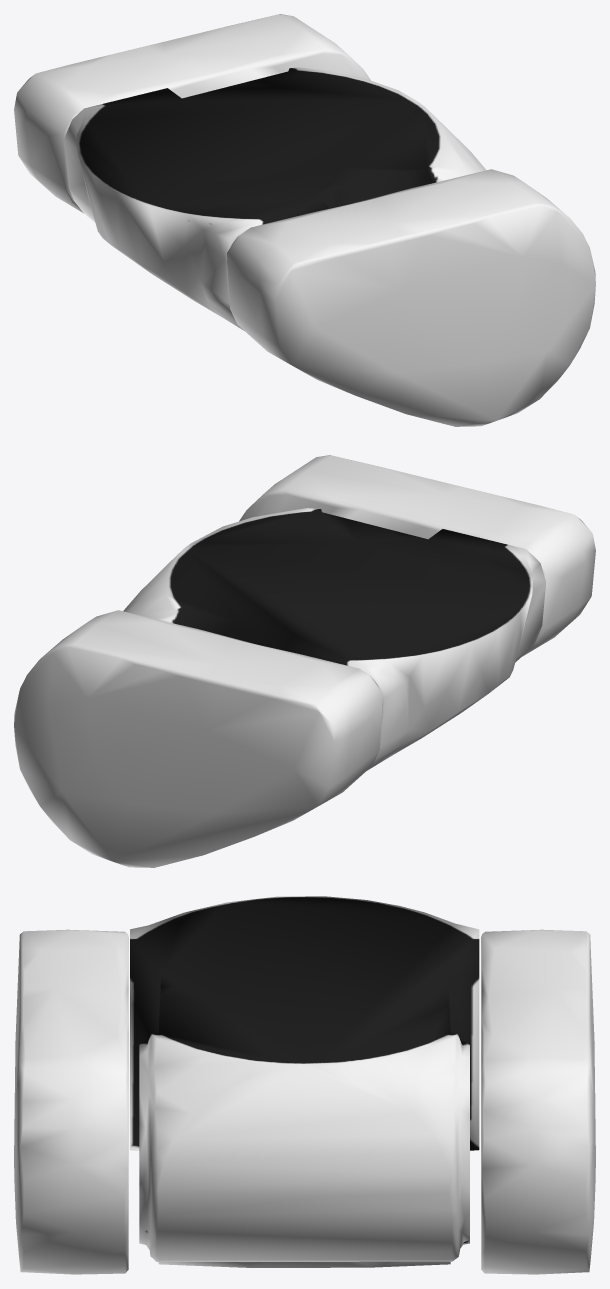
The model's file is head_pan.obj.
The picture shows the model from 3 angles, top to bottom: view 1: azimuth 30°, elevation 25°; view 2: azimuth 150°, elevation 25°; view 3: azimuth 270°, elevation 25°; orthographic projection. The views are drawn at different scales.
Parts seen in each view (by area): view 1: SM_head_pan_M_mod; view 2: SM_head_pan_M_mod; view 3: SM_head_pan_M_mod.
Boxes of the visible parts, box(x1,y1,x2,y2) form: SM_head_pan_M_mod: box(14, 14, 595, 426); SM_head_pan_M_mod: box(14, 455, 595, 867); SM_head_pan_M_mod: box(14, 896, 595, 1274).
Bounding box in the file's own units: 0.2537 × 0.1437 × 0.3212.
Materials: 1 (1 with a texture image).
